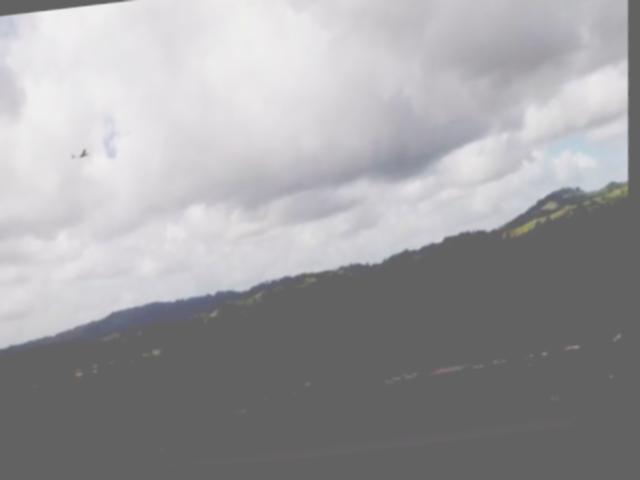iha: (73, 145, 94, 165)
